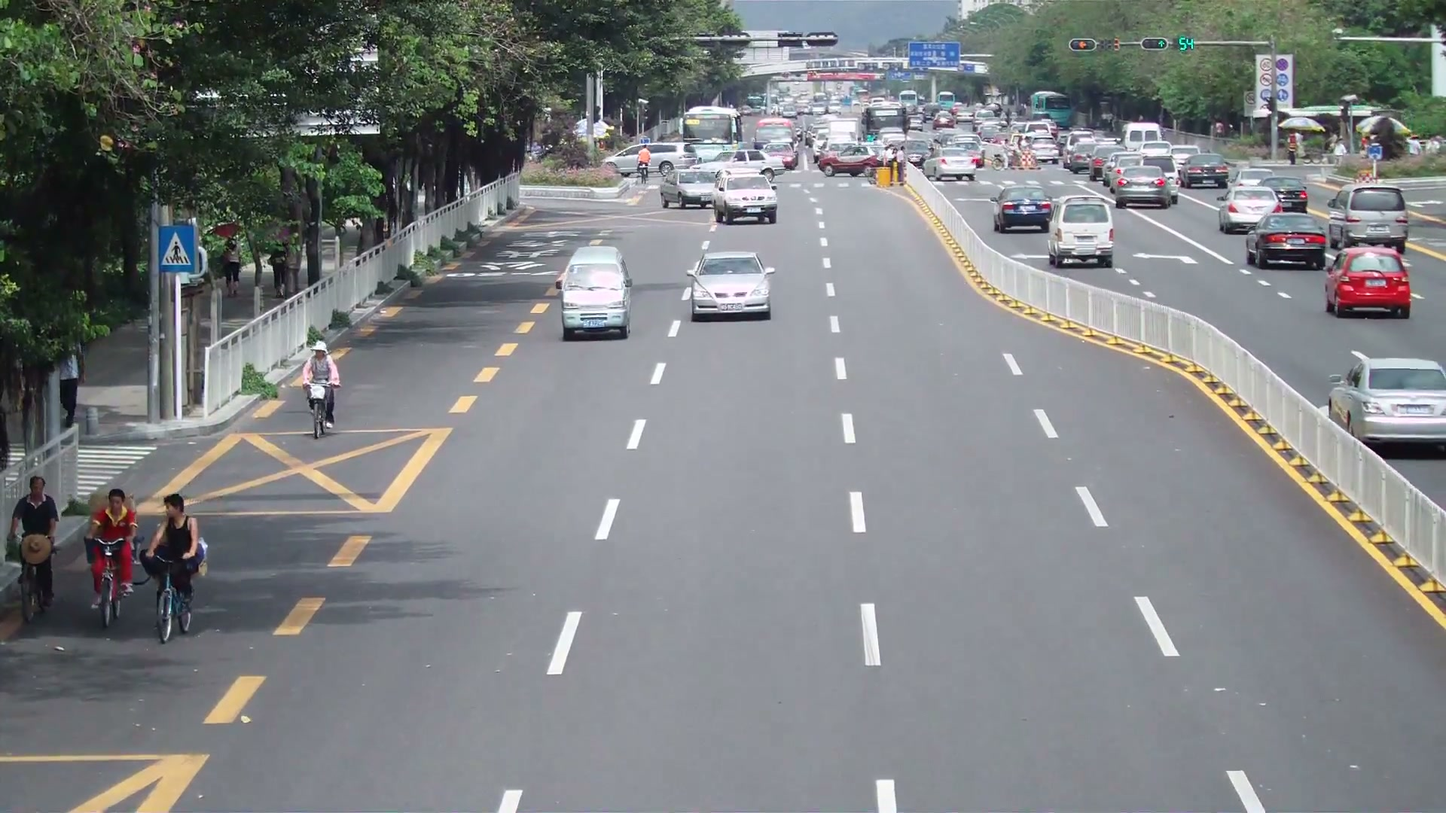bus: (681, 104, 739, 164)
car: (1326, 351, 1445, 454), (559, 244, 632, 340), (1323, 246, 1413, 319), (686, 250, 773, 322), (1325, 184, 1410, 252), (1047, 194, 1116, 268), (1248, 211, 1329, 270), (711, 165, 778, 225), (1217, 184, 1281, 234), (993, 187, 1053, 234), (1114, 169, 1172, 209), (668, 166, 721, 208), (935, 139, 981, 182)
motorcycle: (303, 371, 339, 437)
pedestrian: (143, 493, 209, 628), (6, 473, 60, 611), (85, 485, 140, 612), (301, 345, 341, 430)
